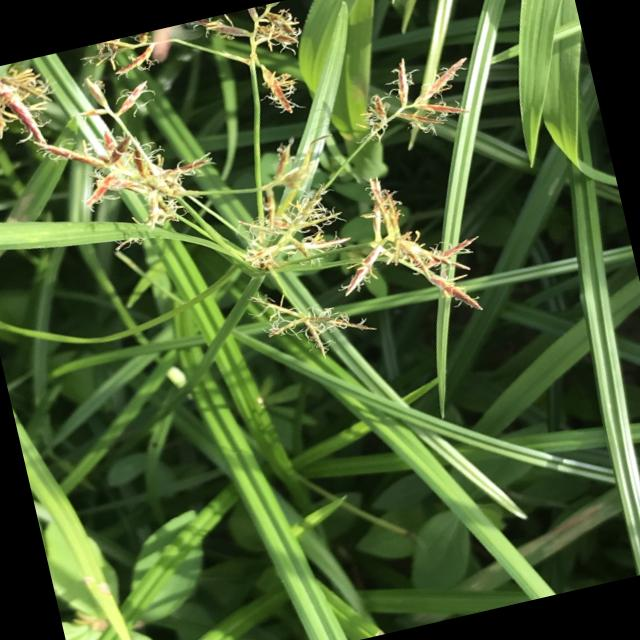cyperus: (186, 39, 531, 376), (0, 0, 350, 279), (0, 0, 340, 237), (336, 160, 488, 322), (218, 140, 352, 282), (352, 44, 472, 160), (246, 268, 368, 377)
